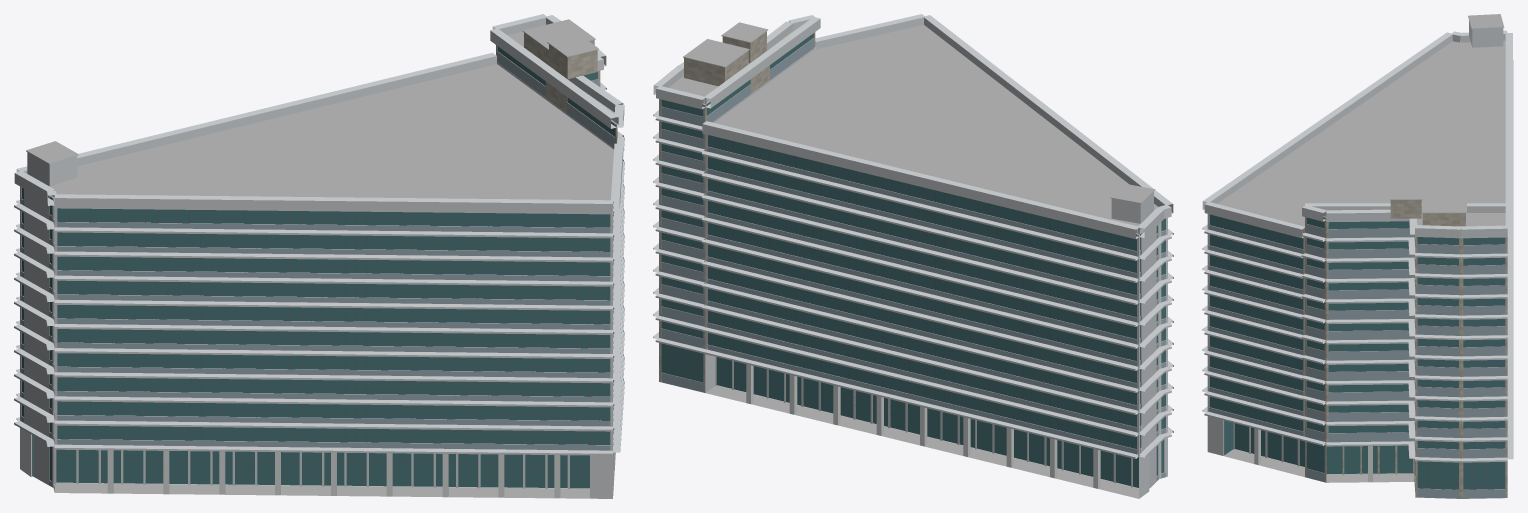
3 views of the same model, side by side, from view 1: azimuth 30°, elevation 25°; view 2: azimuth 150°, elevation 25°; view 3: azimuth 270°, elevation 25° (orthographic). The views are drawn at different scales.
Visible parts, largest first — view 1: fusionTech__glass, fusionTech__trim, fusionTech__roof, fusionTech__spandrel, fusionTech__wall, fusionTech__frame, fusionTech__column, fusionTech__wall2; view 2: fusionTech__glass, fusionTech__trim, fusionTech__roof, fusionTech__spandrel, fusionTech__wall, fusionTech__frame, fusionTech__wall2, fusionTech__column; view 3: fusionTech__glass, fusionTech__roof, fusionTech__trim, fusionTech__spandrel, fusionTech__wall2, fusionTech__wall, fusionTech__frame, fusionTech__column.
Part boxes in pixels (bbox=[...]): fusionTech__glass: bbox=[22, 46, 616, 488]; fusionTech__trim: bbox=[14, 14, 624, 455]; fusionTech__roof: bbox=[26, 19, 616, 498]; fusionTech__spandrel: bbox=[21, 52, 617, 489]; fusionTech__wall: bbox=[20, 62, 614, 498]; fusionTech__frame: bbox=[56, 51, 613, 473]; fusionTech__column: bbox=[107, 450, 614, 498]; fusionTech__wall2: bbox=[496, 32, 617, 143]; fusionTech__glass: bbox=[661, 33, 1165, 487]; fusionTech__trim: bbox=[653, 14, 1173, 458]; fusionTech__roof: bbox=[661, 22, 1157, 498]; fusionTech__spandrel: bbox=[661, 38, 1165, 480]; fusionTech__wall: bbox=[705, 47, 1167, 498]; fusionTech__frame: bbox=[671, 38, 1138, 474]; fusionTech__wall2: bbox=[659, 31, 815, 392]; fusionTech__column: bbox=[746, 364, 1100, 488]; fusionTech__glass: bbox=[1209, 214, 1505, 489]; fusionTech__roof: bbox=[1217, 14, 1505, 498]; fusionTech__trim: bbox=[1202, 16, 1513, 462]; fusionTech__spandrel: bbox=[1209, 224, 1505, 498]; fusionTech__wall2: bbox=[1305, 200, 1507, 498]; fusionTech__wall: bbox=[1207, 20, 1503, 467]; fusionTech__frame: bbox=[1217, 216, 1494, 489]; fusionTech__column: bbox=[1254, 428, 1372, 482].
Size of the model in its own units: 84.53 by 51.83 by 50.2.
Materials: 9 (1 with a texture image).
